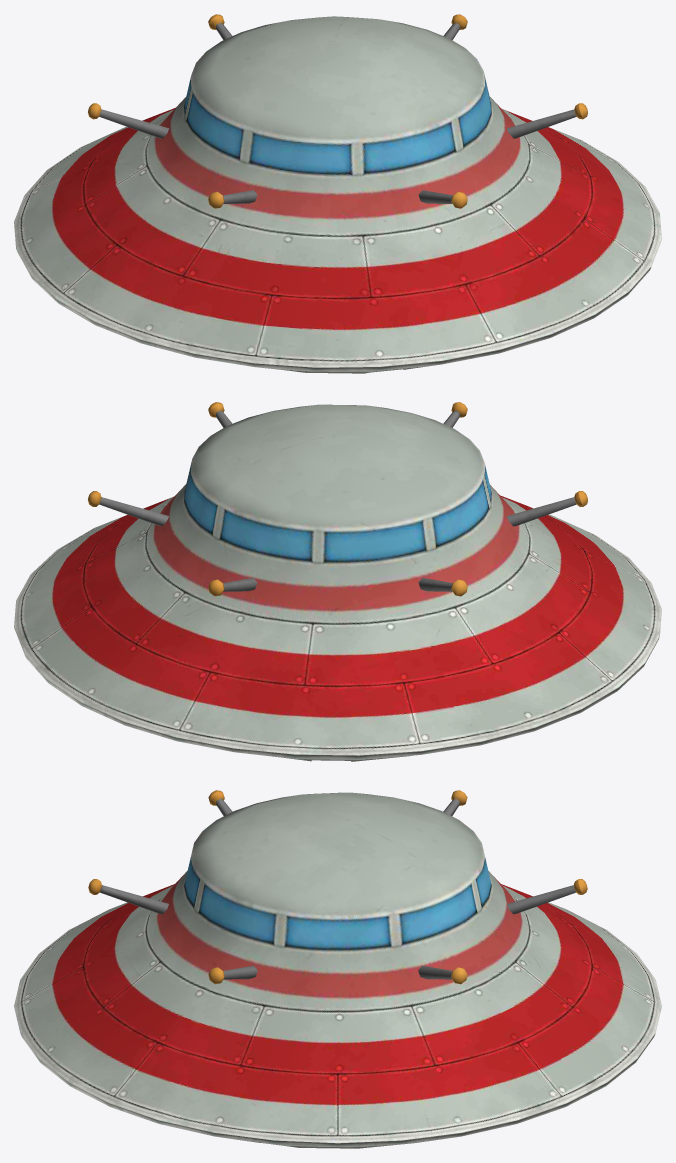
Rendered from UFO_F.dae.
3 views of the same model, one above another, from view 1: azimuth 30°, elevation 25°; view 2: azimuth 150°, elevation 25°; view 3: azimuth 270°, elevation 25° (orthographic).
Visible parts, largest first — view 1: Flying_Saucer_F; view 2: Flying_Saucer_F; view 3: Flying_Saucer_F.
Part boxes in pixels (bbox=[...]): Flying_Saucer_F: bbox=[14, 14, 661, 373]; Flying_Saucer_F: bbox=[14, 402, 661, 761]; Flying_Saucer_F: bbox=[14, 790, 661, 1148].
Size of the model in its own units: 0.4803 by 0.1995 by 0.4803.
Materials: 1 (1 with a texture image).
